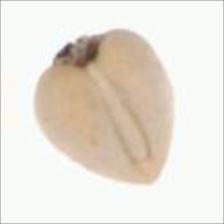L5: (91, 64, 152, 162), (46, 33, 107, 72), (126, 159, 170, 190)
L6: (30, 27, 177, 193)
